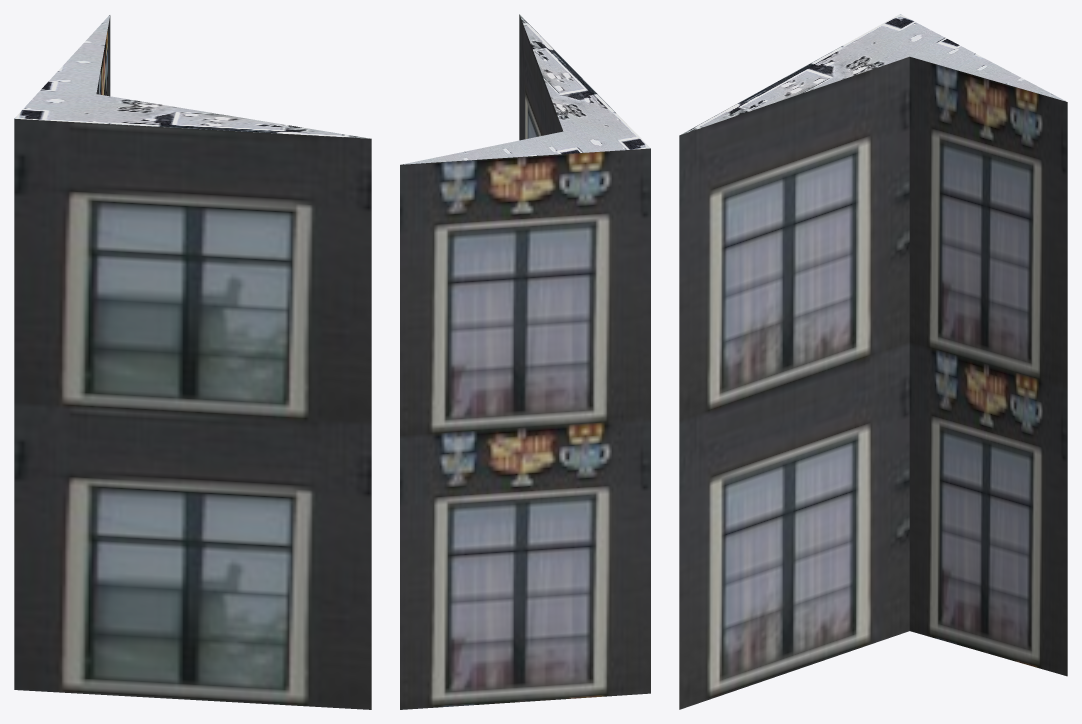
Rendered from ResTex__1997.fbx.
3 renders of one model, left to right at view 1: azimuth 30°, elevation 25°; view 2: azimuth 150°, elevation 25°; view 3: azimuth 270°, elevation 25°, orthographic. The views are drawn at different scales.
Visible parts, largest first — view 1: CityEngineMaterial_22_m, CityEngineMaterial_8_m; view 2: CityEngineMaterial_22_m, CityEngineMaterial_8_m; view 3: CityEngineMaterial_22_m, CityEngineMaterial_8_m.
Part boxes in pixels (<box>): CityEngineMaterial_22_m: <box>14,16,371,709</box>; CityEngineMaterial_8_m: <box>14,14,369,138</box>; CityEngineMaterial_22_m: <box>400,14,650,709</box>; CityEngineMaterial_8_m: <box>402,14,650,164</box>; CityEngineMaterial_22_m: <box>679,56,1067,709</box>; CityEngineMaterial_8_m: <box>681,14,1066,134</box>.
Size of the model in its own units: 2.72 by 6 by 3.68.
2 materials, 2 textured.
